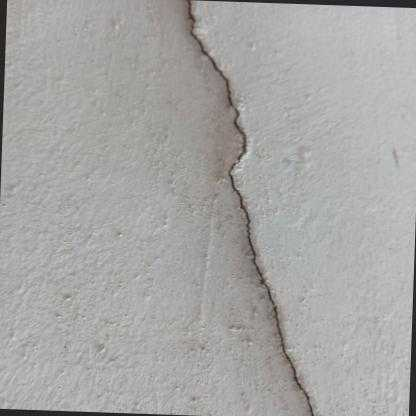crack: (186, 0, 316, 416)
